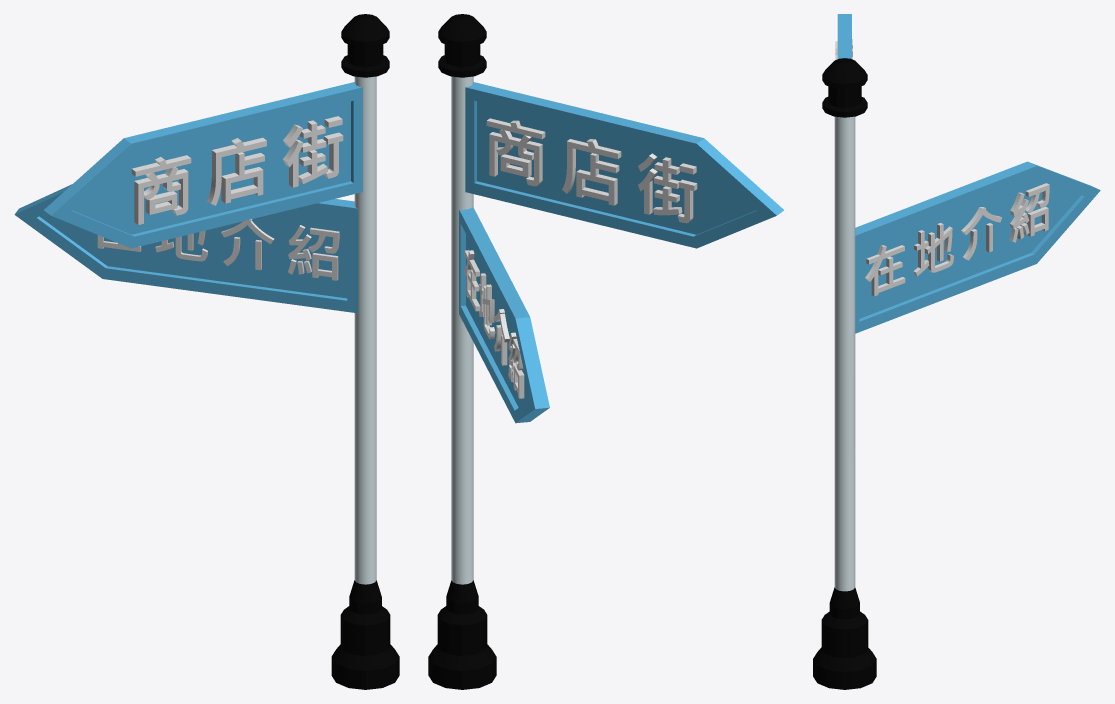
The model's file is street.glb.
3 renders of one model, left to right at view 1: azimuth 30°, elevation 25°; view 2: azimuth 150°, elevation 25°; view 3: azimuth 270°, elevation 25°, orthographic. The views are drawn at different scales.
Size of the model in its own units: 42.99 by 77.57 by 32.98.
